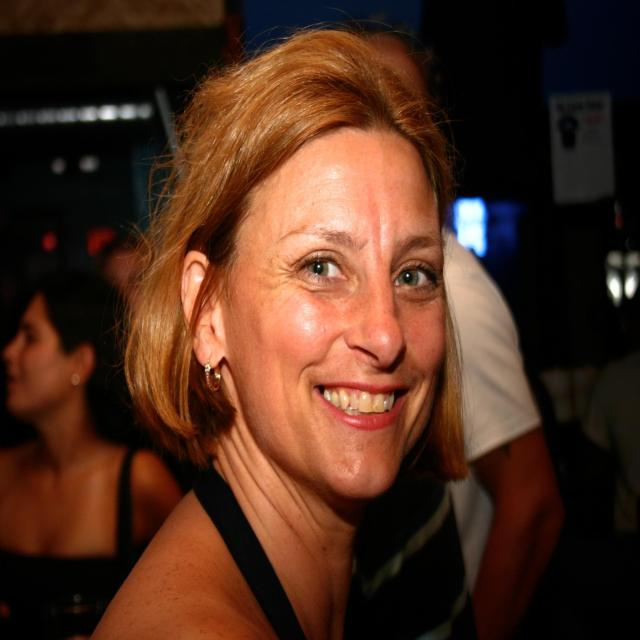Eyebags: (302, 273, 357, 302), (394, 282, 437, 313)
